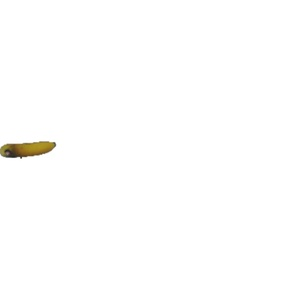banana: (2, 133, 55, 159)
